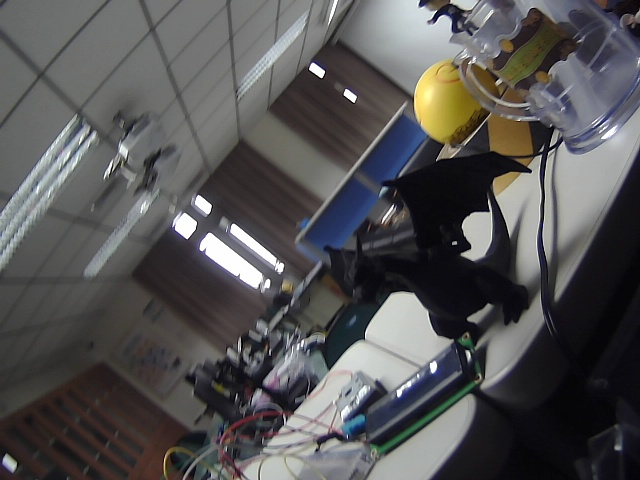charizard: (305, 145, 550, 370)
